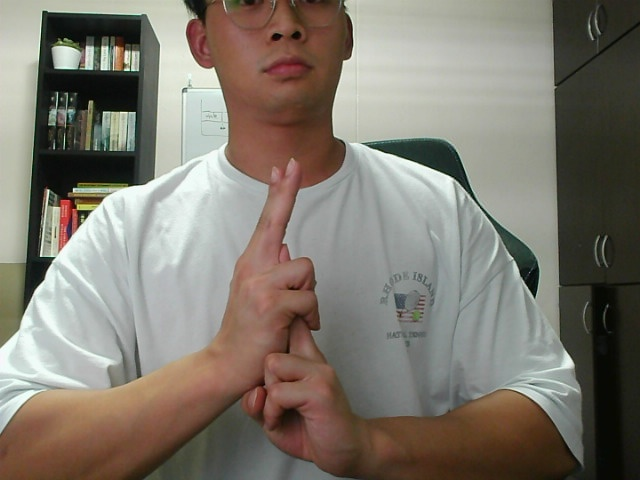Ram: (197, 158, 377, 473)
